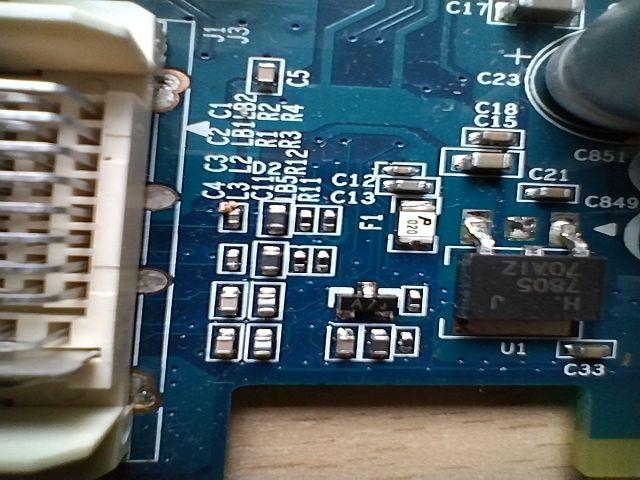capacitor: (441, 146, 520, 178), (460, 124, 526, 150), (558, 336, 616, 363), (521, 181, 582, 206), (249, 58, 283, 97), (377, 176, 440, 194), (379, 158, 424, 179)
